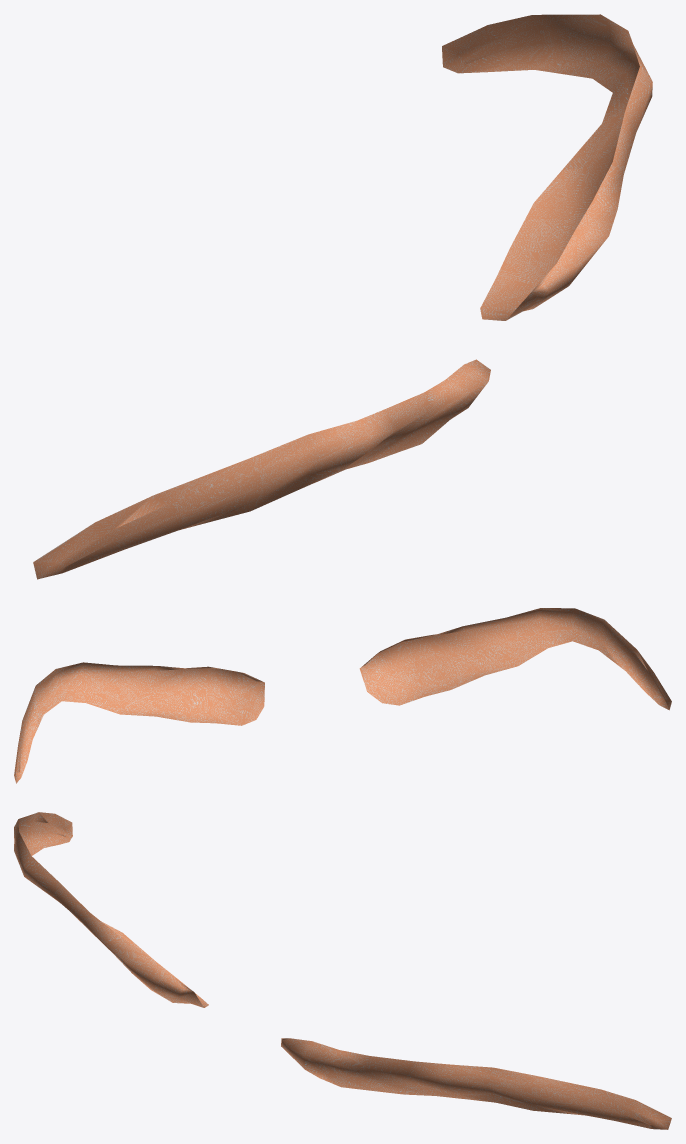
File: eyebrows.dae
3 views of the same model, one above another, from view 1: azimuth 30°, elevation 25°; view 2: azimuth 150°, elevation 25°; view 3: azimuth 270°, elevation 25° (orthographic). The views are drawn at different scales.
Parts seen in each view (by area): view 1: group_2_001, group_2; view 2: group_2, group_2_001; view 3: group_2_001, group_2.
Part boxes in pixels (<box>): group_2_001: <box>442,14,652,320</box>; group_2: <box>33,359,490,579</box>; group_2: <box>359,608,671,710</box>; group_2_001: <box>14,662,264,783</box>; group_2_001: <box>281,1038,671,1129</box>; group_2: <box>14,812,208,1007</box>.
Size of the model in its own units: 0.0959 by 0.0894 by 0.0155.
